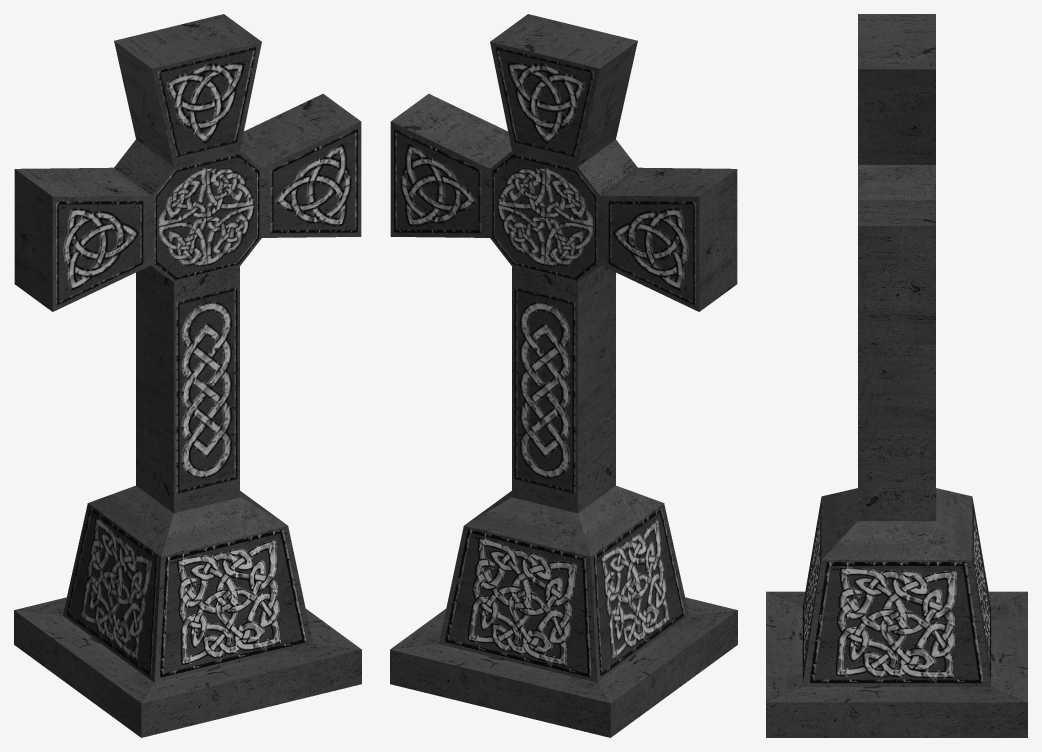
The model's file is Cross.obj.
The picture shows the model from 3 angles, left to right: view 1: azimuth 30°, elevation 25°; view 2: azimuth 150°, elevation 25°; view 3: azimuth 270°, elevation 25°; orthographic projection. The views are drawn at different scales.
Parts seen in each view (by area): view 1: CelticCross; view 2: CelticCross; view 3: CelticCross.
Boxes of the visible parts, left/top/right/bottom form: CelticCross: left=14, top=14, right=361, bottom=737; CelticCross: left=390, top=14, right=737, bottom=737; CelticCross: left=766, top=14, right=1027, bottom=737.
Bounding box in the file's own units: 2.8 × 5.4 × 2.
1 material, 1 textured.
